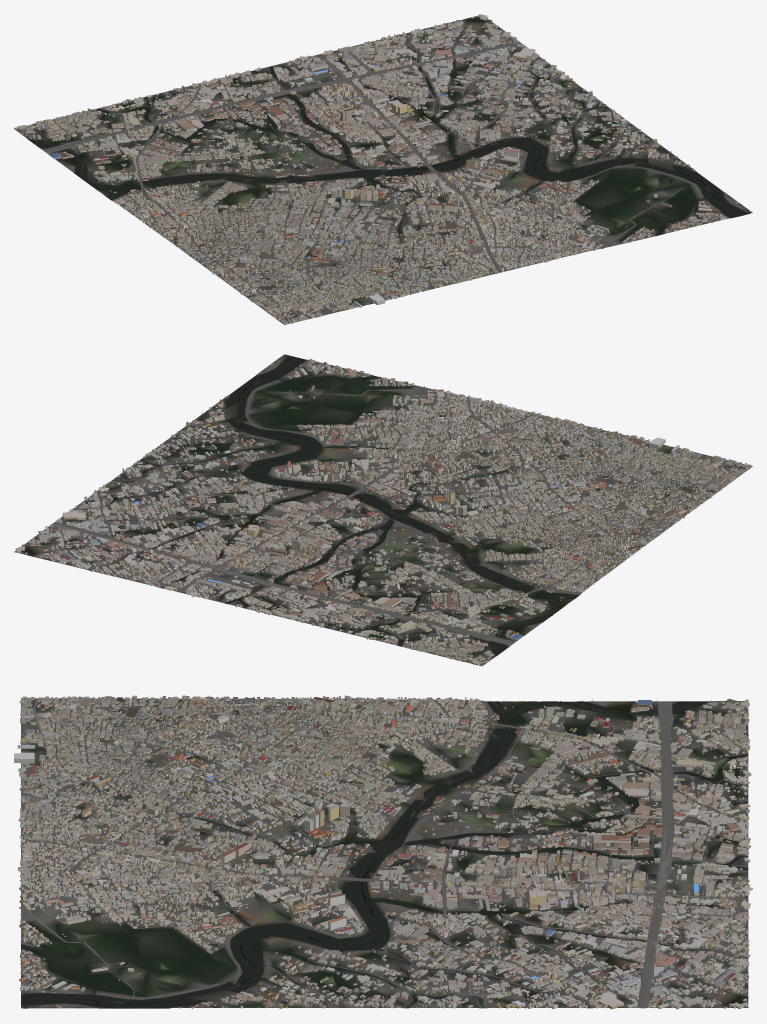
3 renders of one model, top to bottom at view 1: azimuth 30°, elevation 25°; view 2: azimuth 150°, elevation 25°; view 3: azimuth 270°, elevation 25°, orthographic. The views are drawn at different scales.
Visible parts, largest first — view 1: buildings, ground, roads, water; view 2: buildings, ground, roads, water; view 3: buildings, ground, roads, water.
Boxes of the visible parts, x1,y1,x2,y2 form: buildings: [14, 14, 738, 324]; ground: [14, 14, 752, 324]; roads: [25, 19, 748, 321]; water: [28, 20, 750, 235]; buildings: [15, 358, 751, 666]; ground: [14, 354, 752, 666]; roads: [32, 356, 748, 663]; water: [35, 355, 578, 655]; buildings: [14, 695, 752, 1009]; ground: [21, 698, 748, 1008]; roads: [19, 698, 748, 1008]; water: [20, 701, 747, 1008].
Bounding box in the file's own units: 2825 × 68.28 × 2846.
